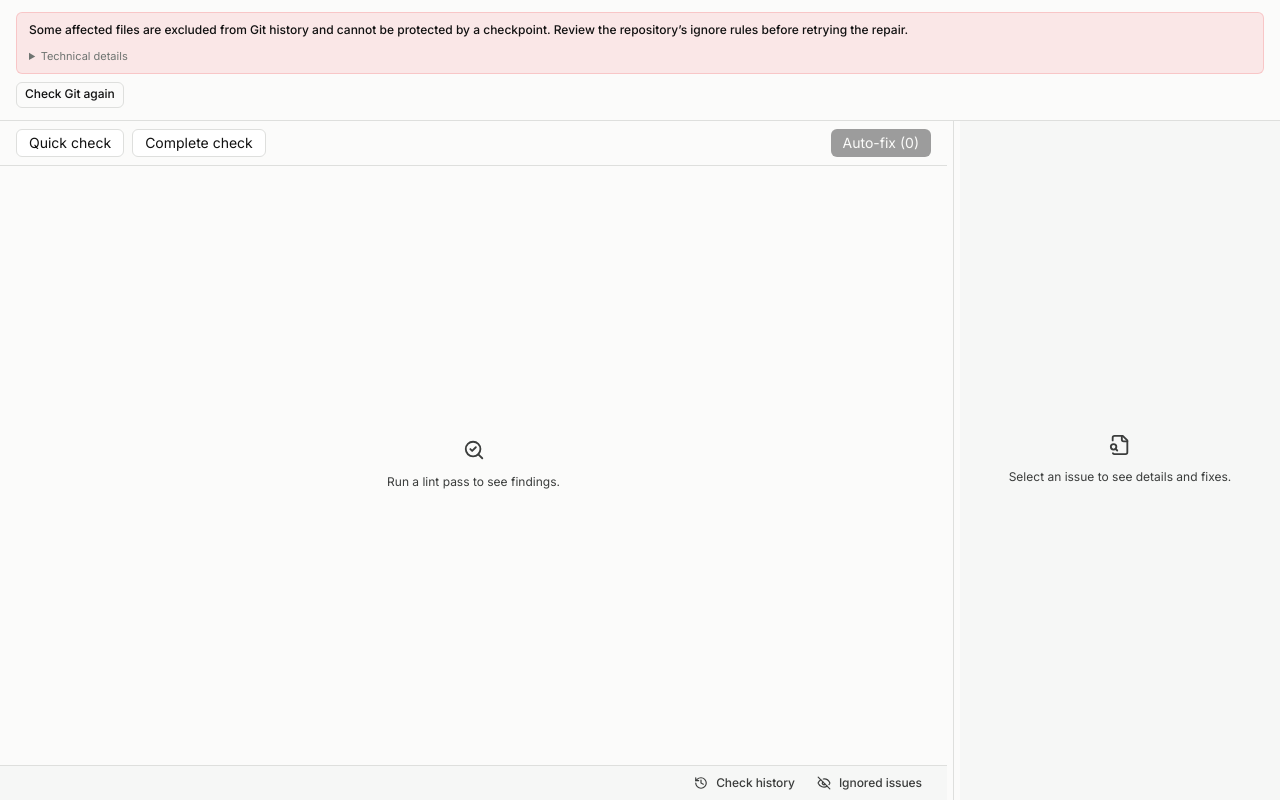
LintView › shows which ignored files prevented the checkpoint in technical details
Expected: the text "Some affected files are excluded from Git history" is shown, [29,22,908,37]
Click the heading "Technical details". click: (84, 56)
box: [41,49,128,63]
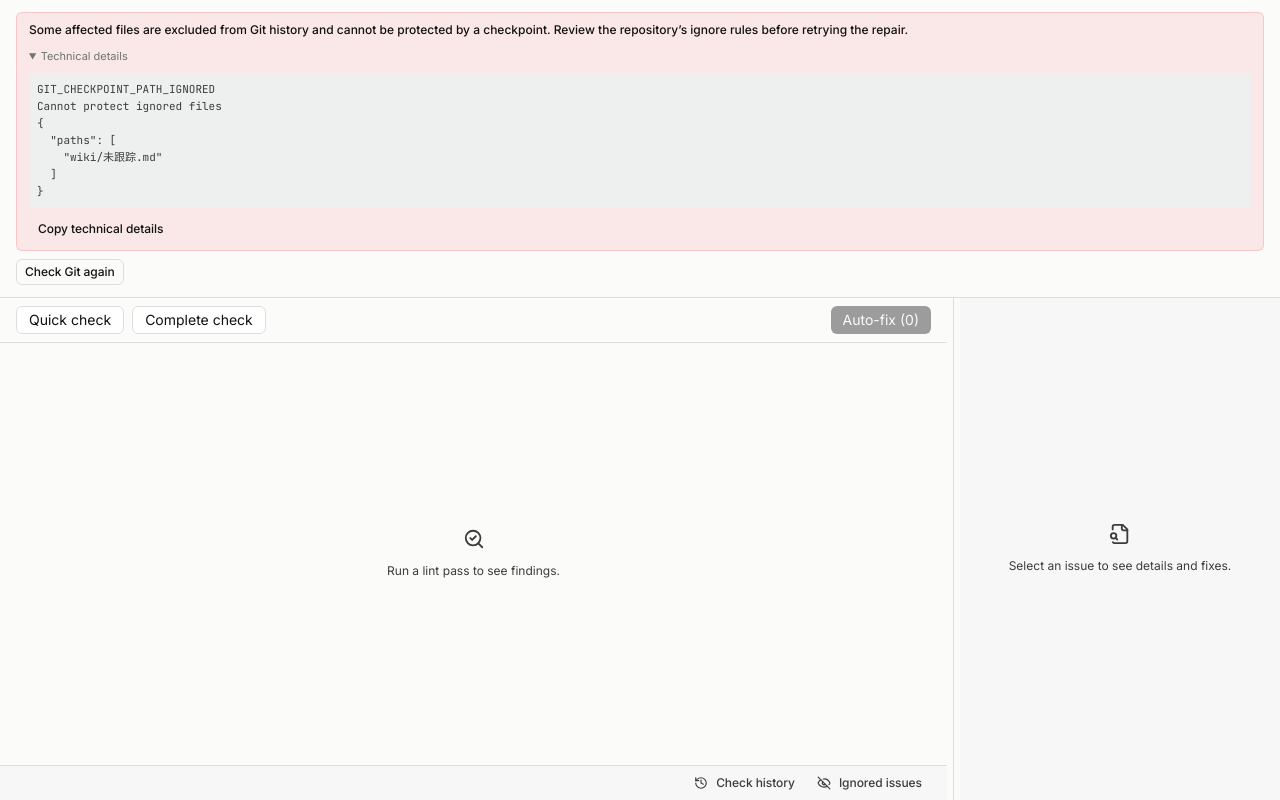
Now the text "wiki/未跟踪.md" is shown, box [37,82,222,198]
